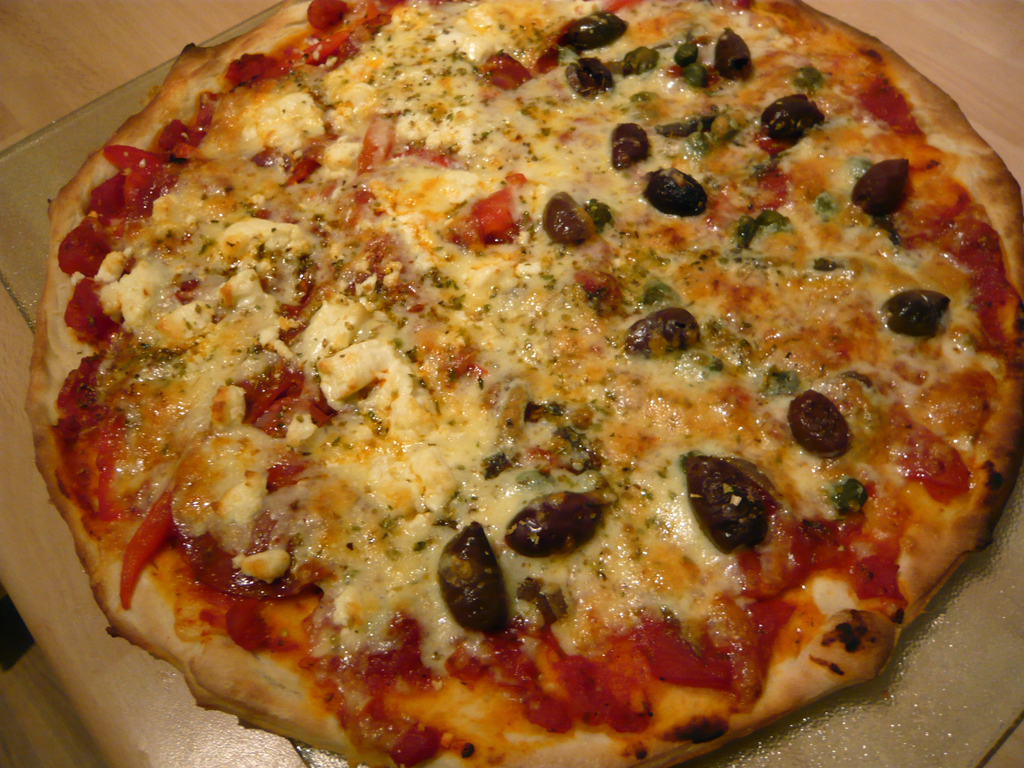Pizza: (16, 0, 1020, 767)
